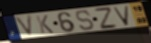6: (57, 11, 77, 34)
K: (35, 14, 55, 35)
S: (75, 9, 96, 32)
V: (13, 14, 35, 39), (112, 5, 131, 27)
Z: (93, 7, 119, 30)
